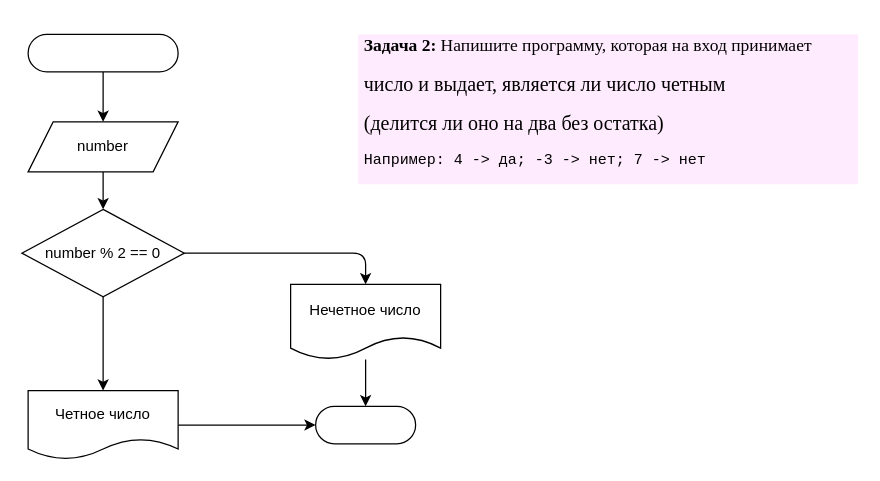
Some shapes in this 880 by 481 pixel diagram are drawn without their labels. Each missing label, with the centre of its shape:
end: pixel 365 424
start: pixel 102 52
